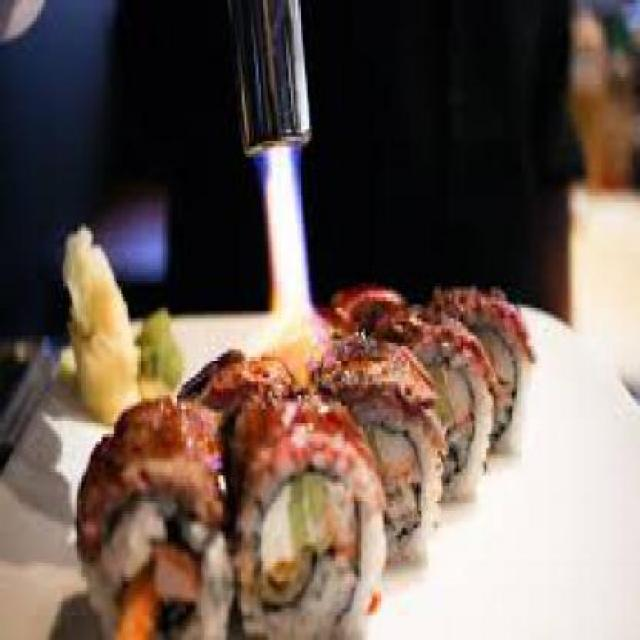steak: (98, 276, 492, 458)
sushi: (79, 269, 526, 629)
